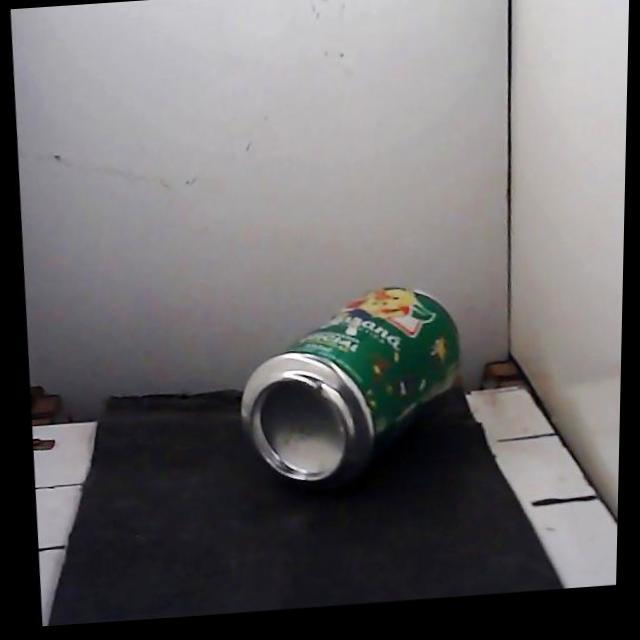metal: (242, 286, 459, 485)
